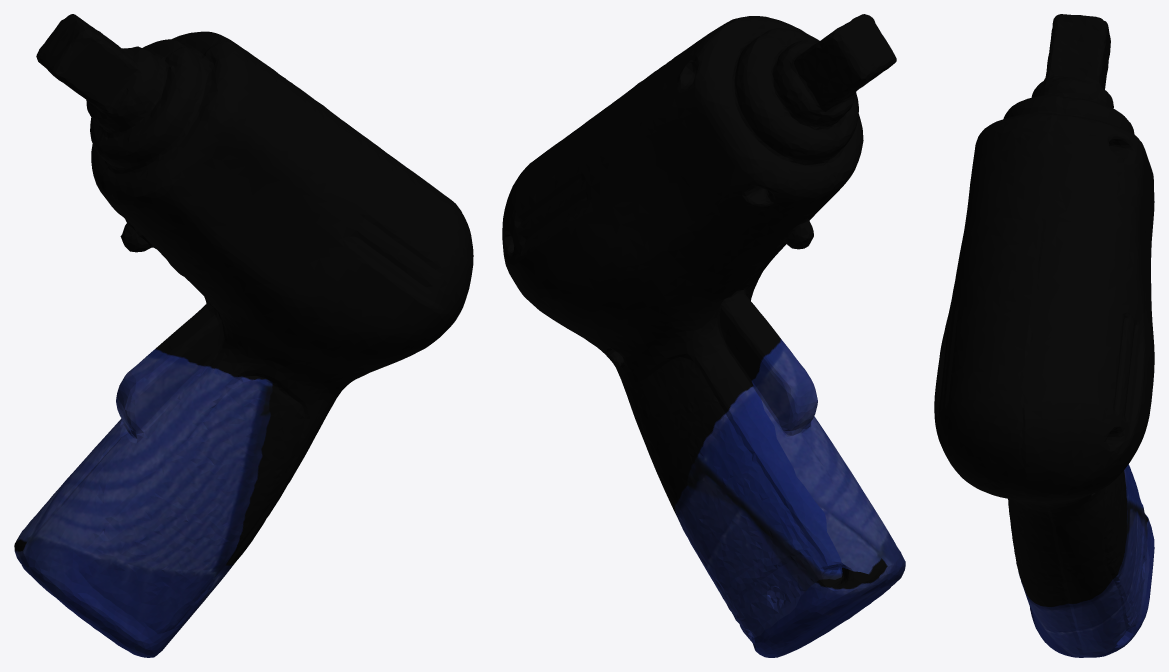
3 renders of one model, left to right at view 1: azimuth 30°, elevation 25°; view 2: azimuth 150°, elevation 25°; view 3: azimuth 270°, elevation 25°, orthographic. The views are drawn at different scales.
Visible parts, largest first — view 1: node; view 2: node; view 3: node.
Part boxes in pixels (x1,y1,x2,y2): node: (14, 14, 473, 657); node: (502, 14, 905, 657); node: (934, 14, 1154, 657).
Size of the model in its own units: 0.1203 by 0.1817 by 0.0593.
